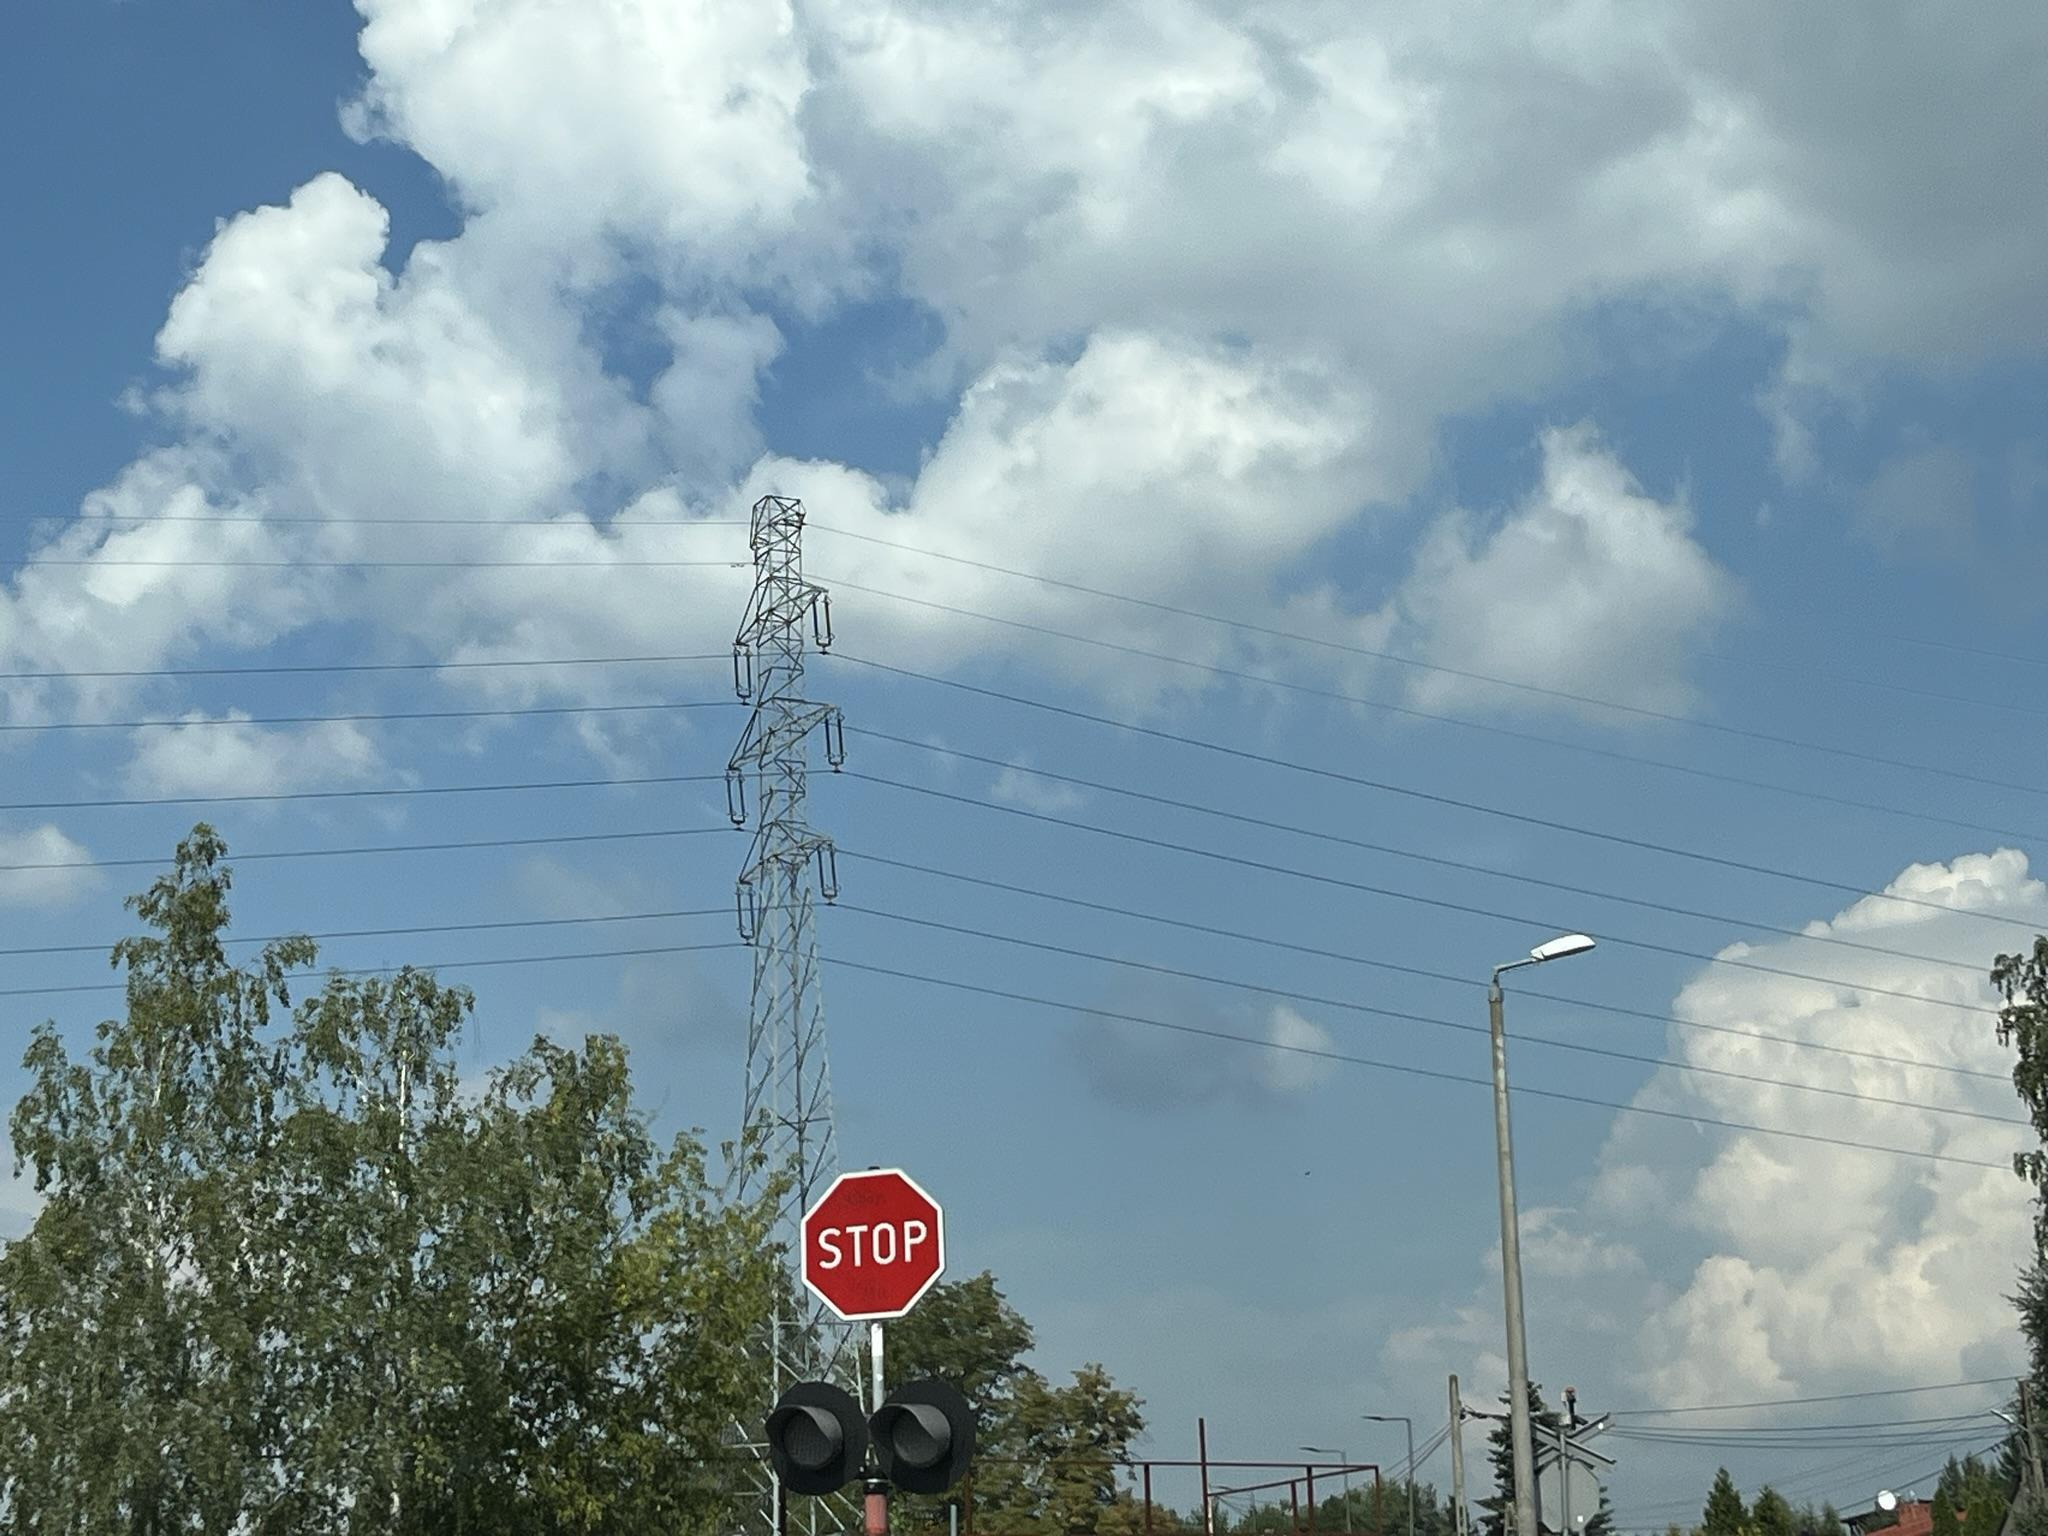prohibitory: (798, 1167, 947, 1320)
